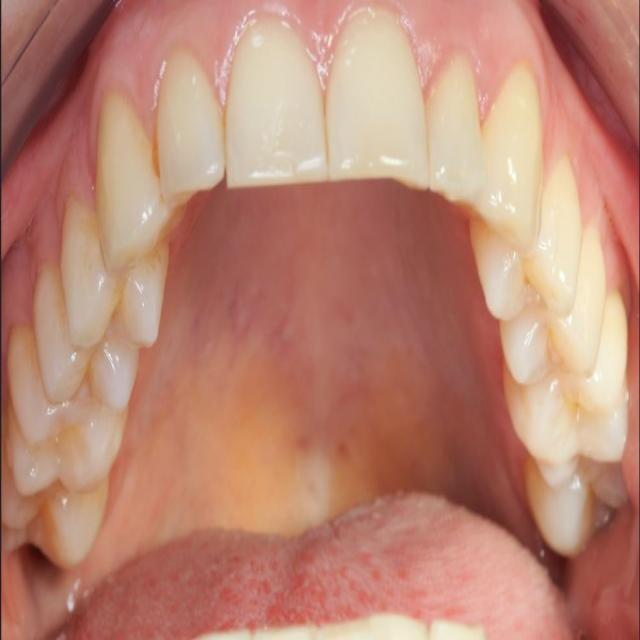1st Molar: (504, 292, 630, 485), (3, 330, 129, 492)
1st Premolar: (470, 156, 582, 323), (62, 197, 168, 348)
2nd Molar: (2, 471, 108, 573), (528, 459, 626, 559)
2nd Premolar: (497, 225, 608, 386), (34, 264, 145, 415)
Canine: (95, 93, 157, 278), (482, 66, 543, 250)
Central Incisor: (328, 7, 430, 189), (226, 14, 327, 189)
Lateral Incisor: (156, 47, 226, 200), (428, 52, 483, 205)
